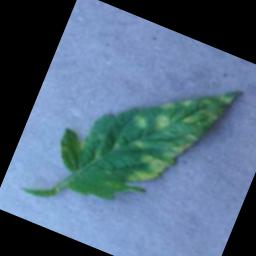Leaf_Mold: (155, 63, 237, 135), (126, 122, 192, 198), (147, 110, 171, 135), (129, 112, 150, 130)
